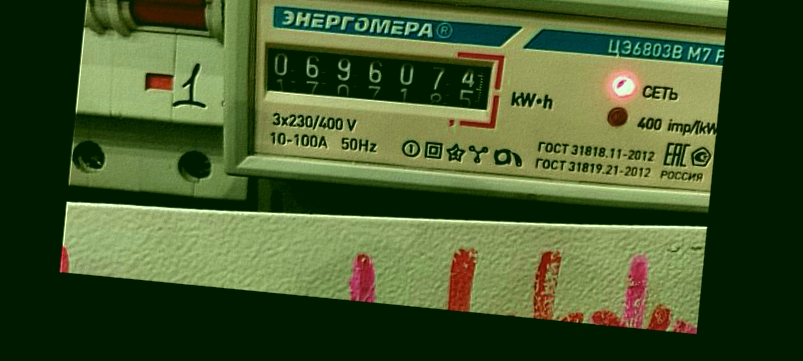0: (270, 51, 291, 77), (396, 60, 416, 87)
4: (459, 65, 477, 88)
5: (457, 88, 474, 109)
6: (364, 57, 385, 85), (302, 53, 322, 79)
7: (428, 64, 447, 91)
9: (334, 55, 352, 82)
screen: (248, 29, 508, 133)
